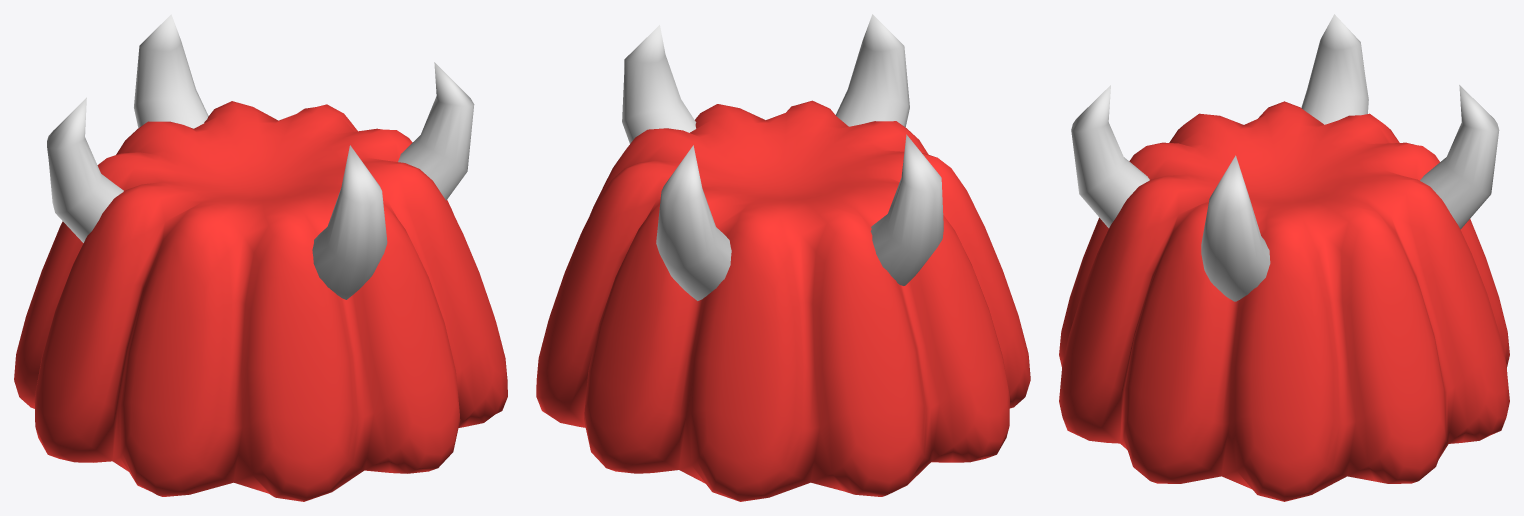
File: NewJelly.fbx
3 views of the same model, side by side, from view 1: azimuth 30°, elevation 25°; view 2: azimuth 150°, elevation 25°; view 3: azimuth 270°, elevation 25° (orthographic). The views are drawn at different scales.
Visible parts, largest first — view 1: Jellyy, Horns; view 2: Jellyy, Horns; view 3: Jellyy, Horns.
Boxes of the visible parts, left/top/right/bottom form: Jellyy: left=14, top=101, right=507, bottom=501; Horns: left=47, top=14, right=474, bottom=299; Jellyy: left=536, top=100, right=1030, bottom=501; Horns: left=622, top=14, right=943, bottom=300; Jellyy: left=1059, top=101, right=1509, bottom=501; Horns: left=1071, top=14, right=1499, bottom=301.
Size of the model in its own units: 109 by 79.2 by 100.
